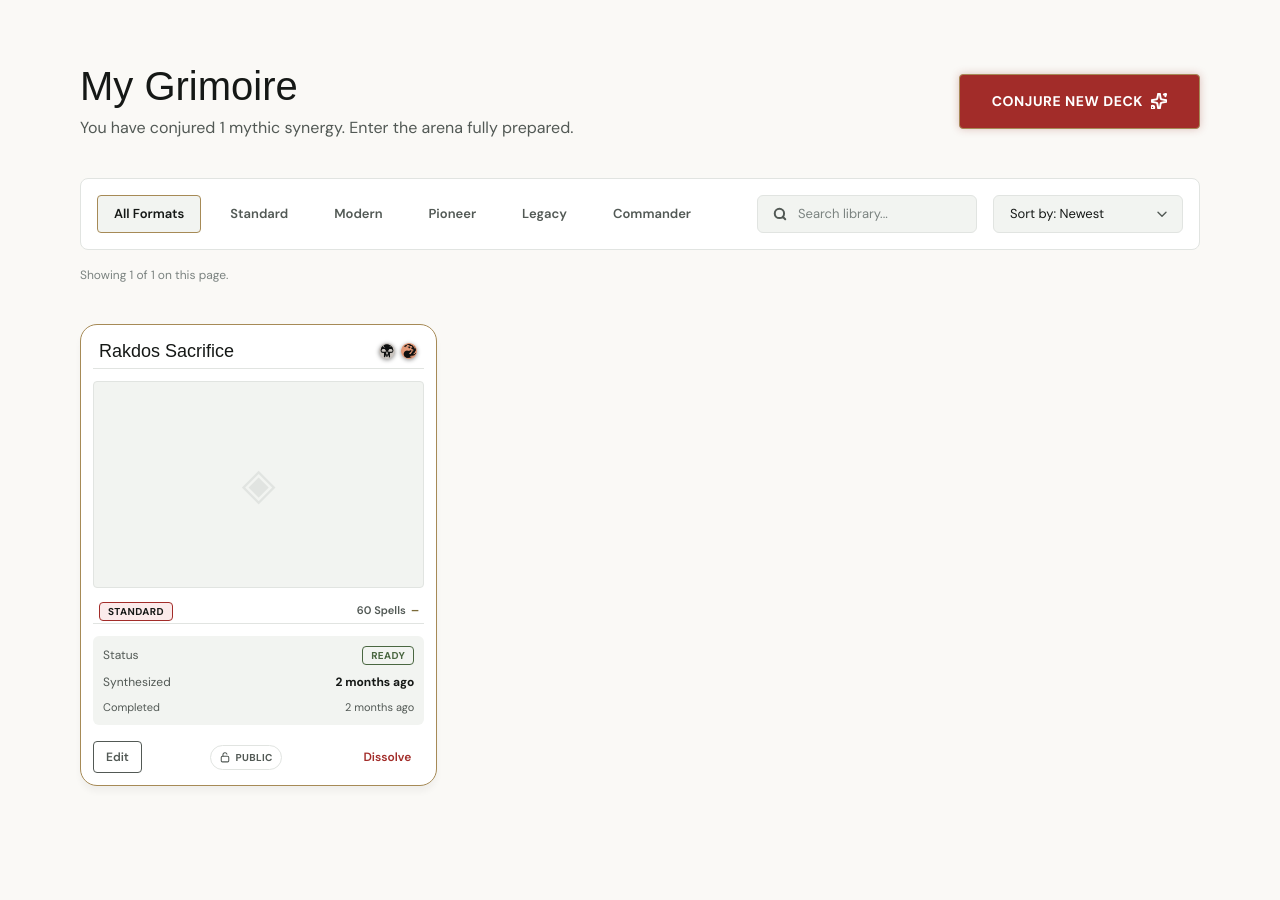
Test case: LibraryPage › reports a failed delete inside the dialog and keeps the deck
Expected: the heading "Rakdos Sacrifice" is shown, [99,340,234,360]
What coordinates should you click on to do the following:
click the button with aria-label "Dissolve Rakdos Sacrifice"
I would click on:
 (387, 757)
Its box is [350,741,424,773].
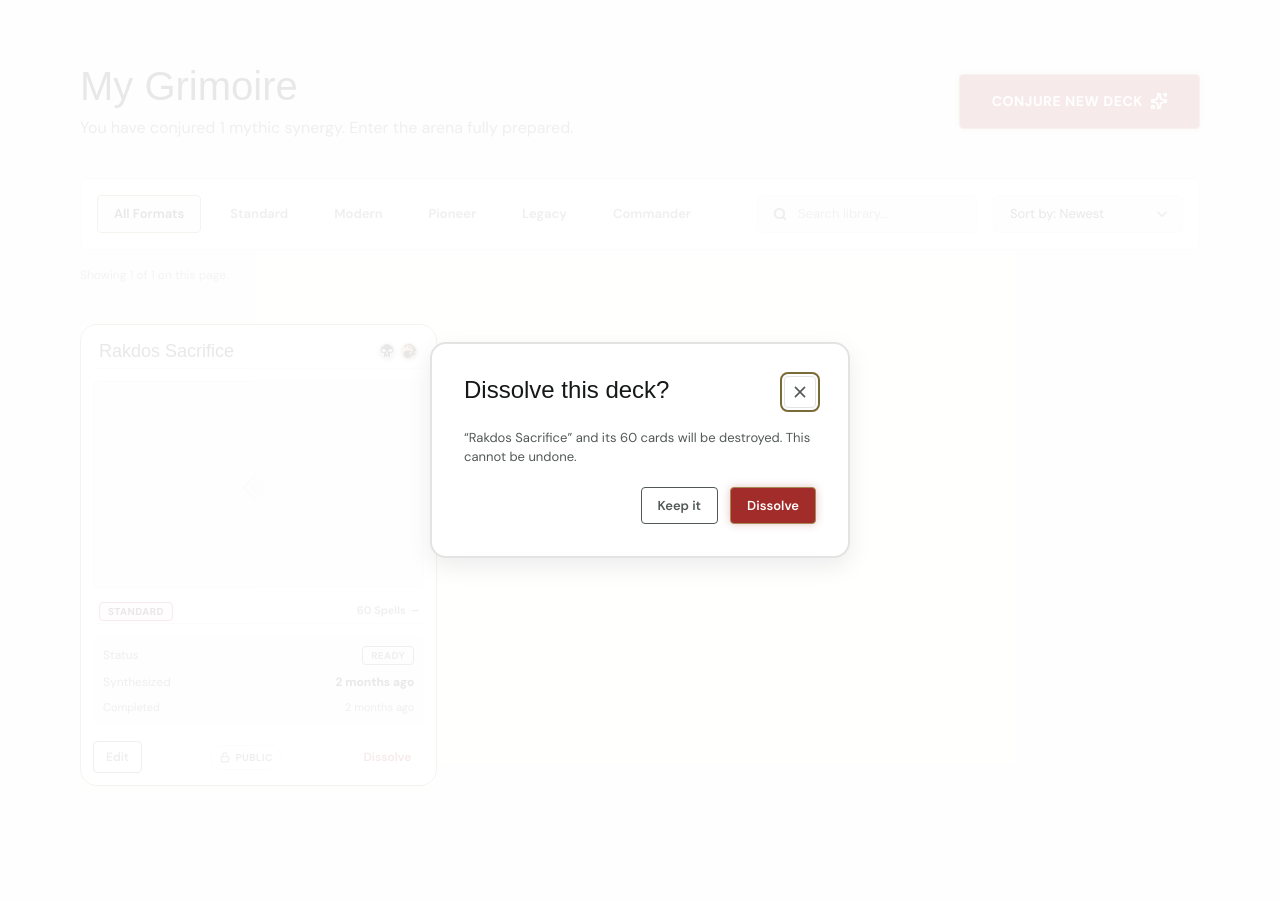
What coordinates should you click on to do the following:
click the button "Dissolve"
I would click on:
 (773, 506)
Its box is [730,487,816,524].
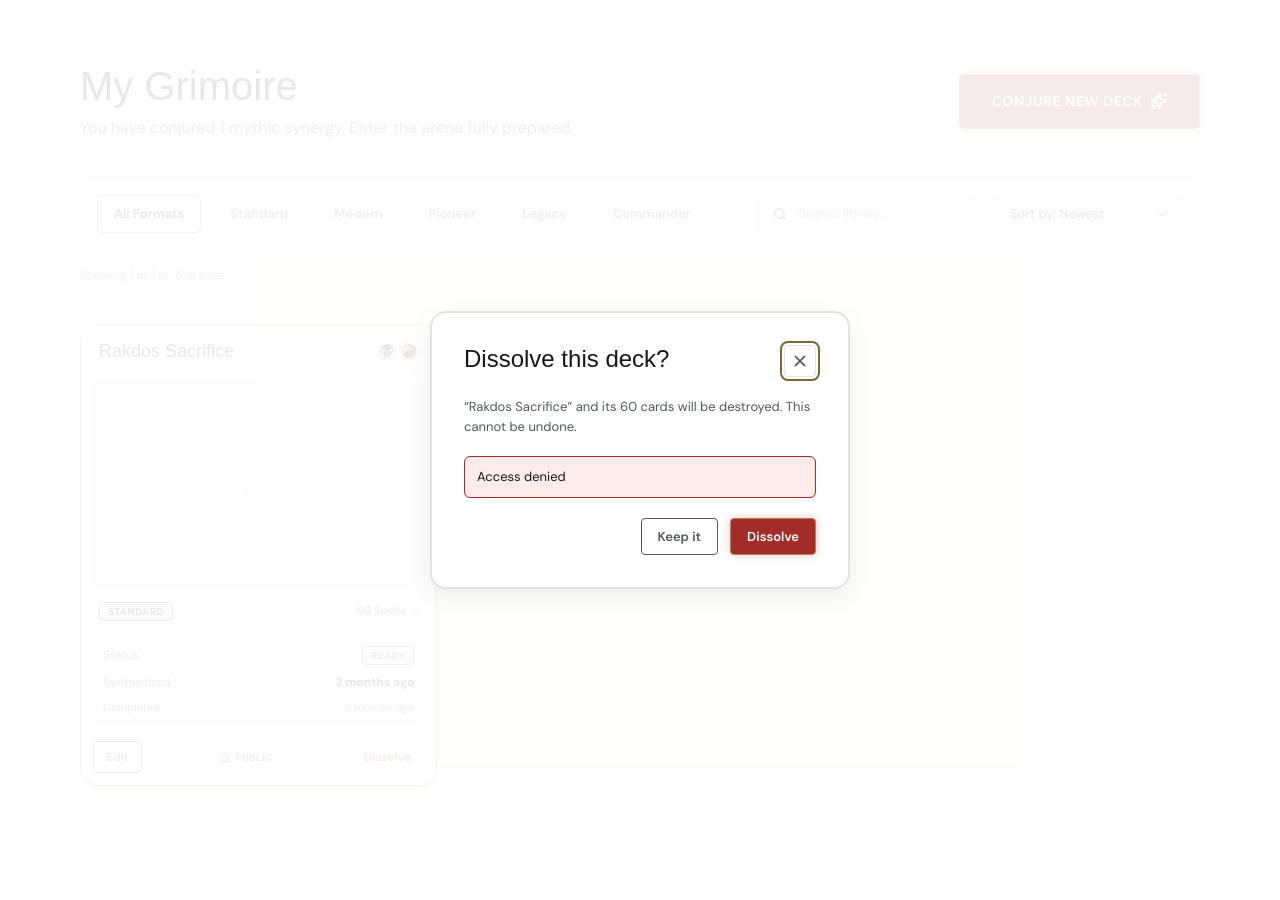
Result: the dialog is shown at [430,311,850,589]
Result: the text "Access denied" is shown at [464,456,816,498]
